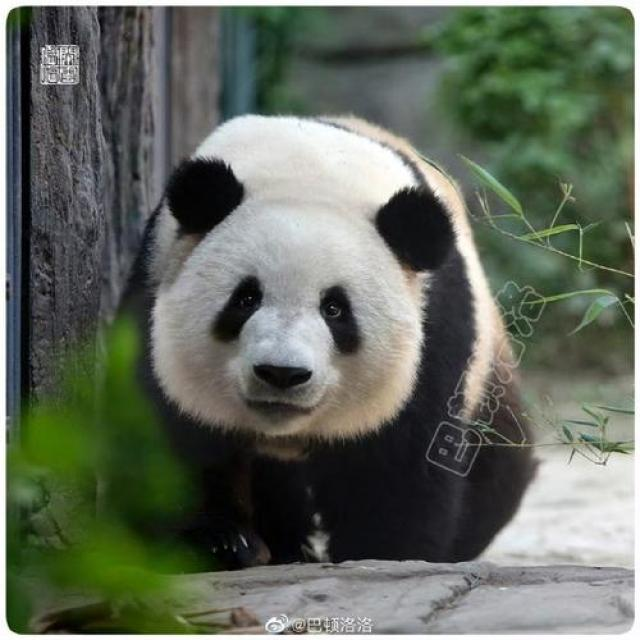panda: (119, 101, 579, 565)
